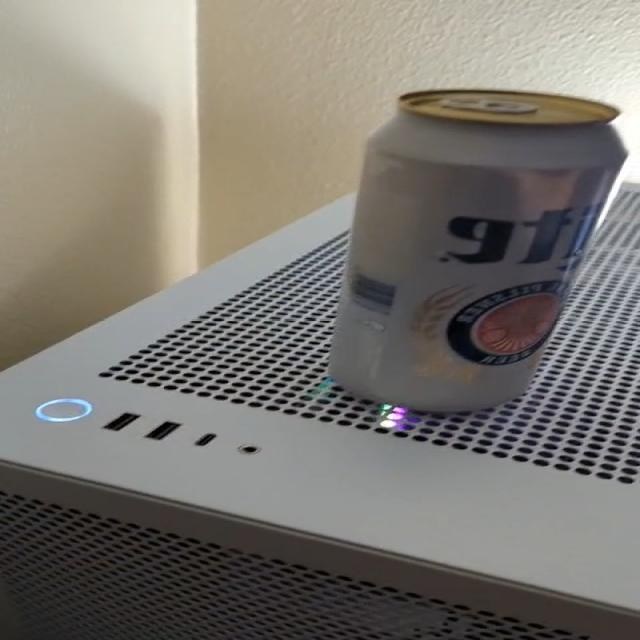metal: (329, 90, 627, 412)
